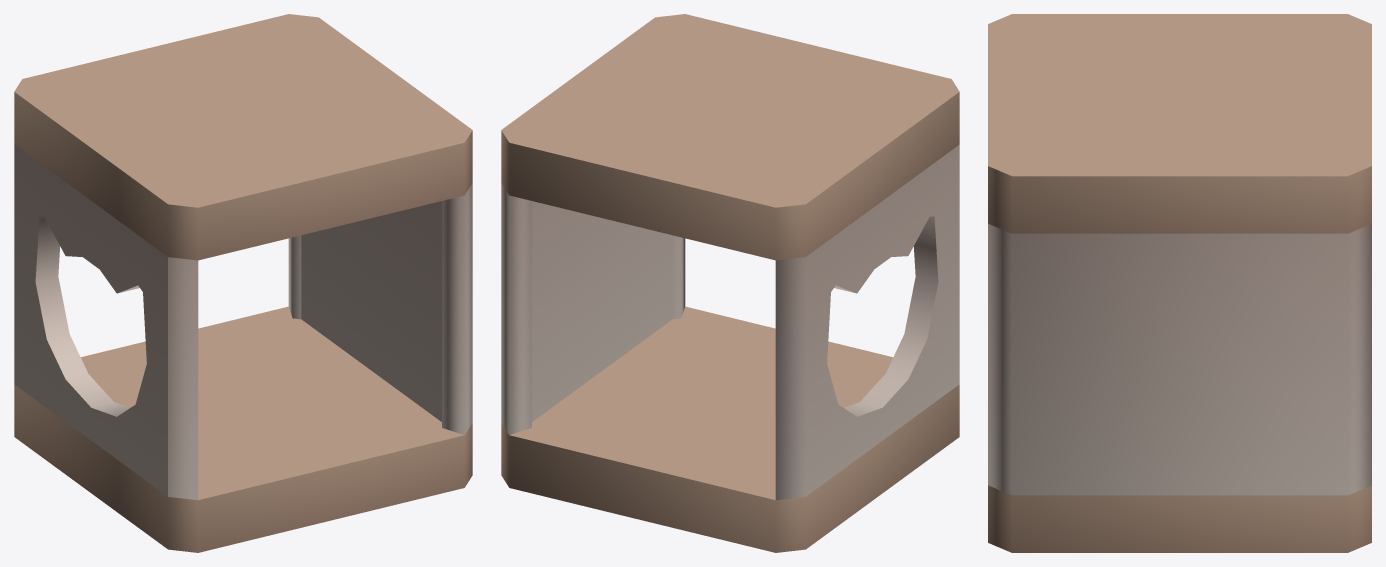
Rendered from cat-shelf-box (%wall).glb.
The picture shows the model from 3 angles, left to right: view 1: azimuth 30°, elevation 25°; view 2: azimuth 150°, elevation 25°; view 3: azimuth 270°, elevation 25°; orthographic projection. The views are drawn at different scales.
Visible parts, largest first — view 1: cat-shelf-box (%wall); view 2: cat-shelf-box (%wall); view 3: cat-shelf-box (%wall).
Boxes of the visible parts, left/top/right/bottom form: cat-shelf-box (%wall): left=14, top=14, right=472, bottom=552; cat-shelf-box (%wall): left=501, top=14, right=959, bottom=552; cat-shelf-box (%wall): left=988, top=14, right=1371, bottom=552.
Size of the model in its own units: 0.4 by 0.4332 by 0.4.
